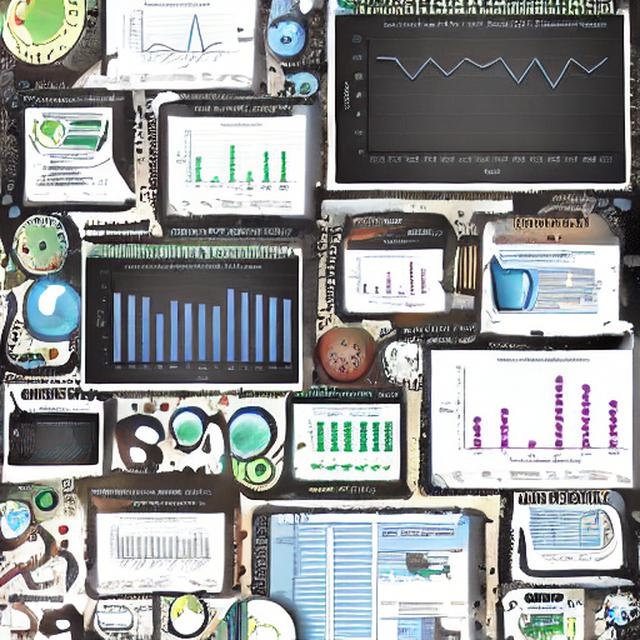Graph: (338, 17, 624, 183), (94, 260, 299, 383), (432, 353, 631, 468), (174, 121, 292, 197), (125, 0, 227, 72), (106, 515, 213, 577), (346, 252, 431, 302), (23, 421, 93, 466)
